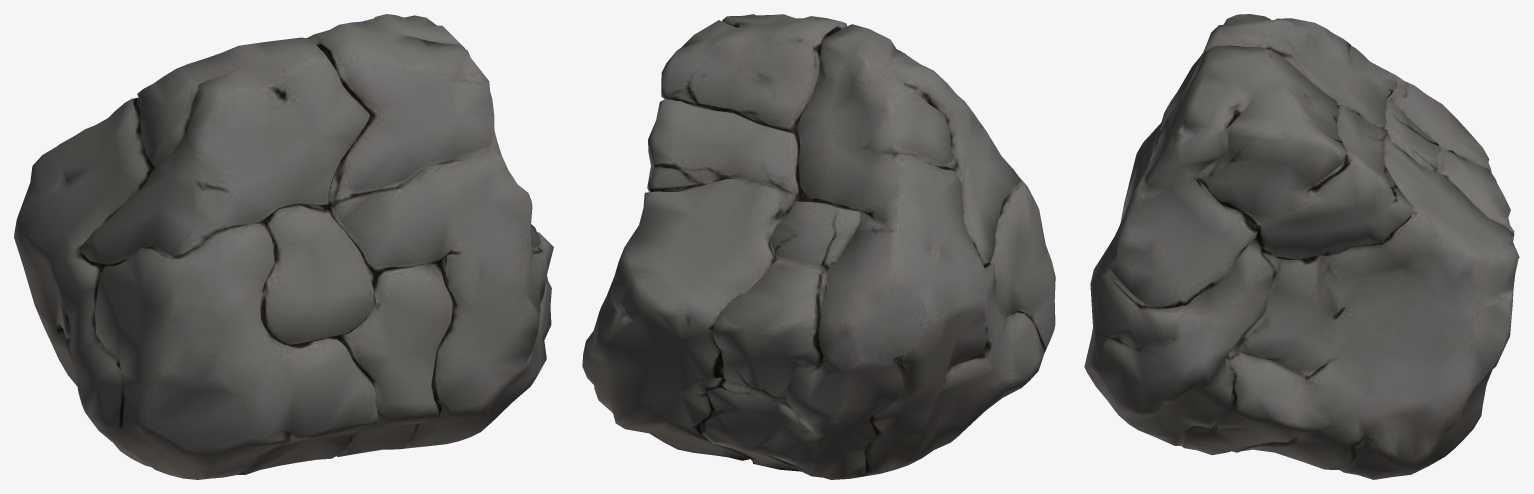
The model's file is boulder.glb.
3 views of the same model, side by side, from view 1: azimuth 30°, elevation 25°; view 2: azimuth 150°, elevation 25°; view 3: azimuth 270°, elevation 25° (orthographic). The views are drawn at different scales.
Visible parts, largest first — view 1: tripo_node_c7aeb229-a830-4d91-9fba-7ba6eb4c2c34; view 2: tripo_node_c7aeb229-a830-4d91-9fba-7ba6eb4c2c34; view 3: tripo_node_c7aeb229-a830-4d91-9fba-7ba6eb4c2c34.
Boxes of the visible parts, bbox=[...] form: tripo_node_c7aeb229-a830-4d91-9fba-7ba6eb4c2c34: bbox=[14, 14, 553, 479]; tripo_node_c7aeb229-a830-4d91-9fba-7ba6eb4c2c34: bbox=[582, 14, 1055, 479]; tripo_node_c7aeb229-a830-4d91-9fba-7ba6eb4c2c34: bbox=[1084, 14, 1519, 479].
Bounding box in the file's own units: 0.998 × 0.9512 × 0.9785.
Materials: 1 (1 with a texture image).
